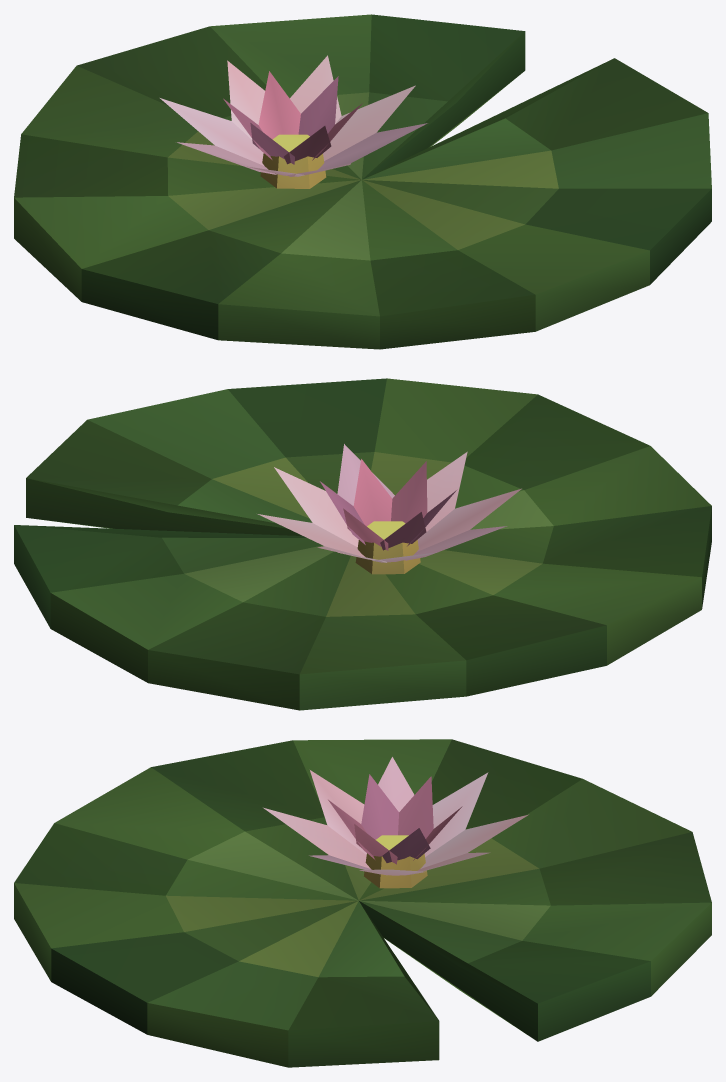
File: lily-pad.glb
3 views of the same model, one above another, from view 1: azimuth 30°, elevation 25°; view 2: azimuth 150°, elevation 25°; view 3: azimuth 270°, elevation 25° (orthographic). The views are drawn at different scales.
Visible parts, largest first — view 1: lily-pad; view 2: lily-pad; view 3: lily-pad.
Part boxes in pixels (left/top/right/bottom): lily-pad: left=14, top=14, right=711, bottom=349; lily-pad: left=14, top=378, right=711, bottom=710; lily-pad: left=14, top=739, right=711, bottom=1067.
Bounding box in the file's own units: 0.7565 × 0.1157 × 0.7555.
